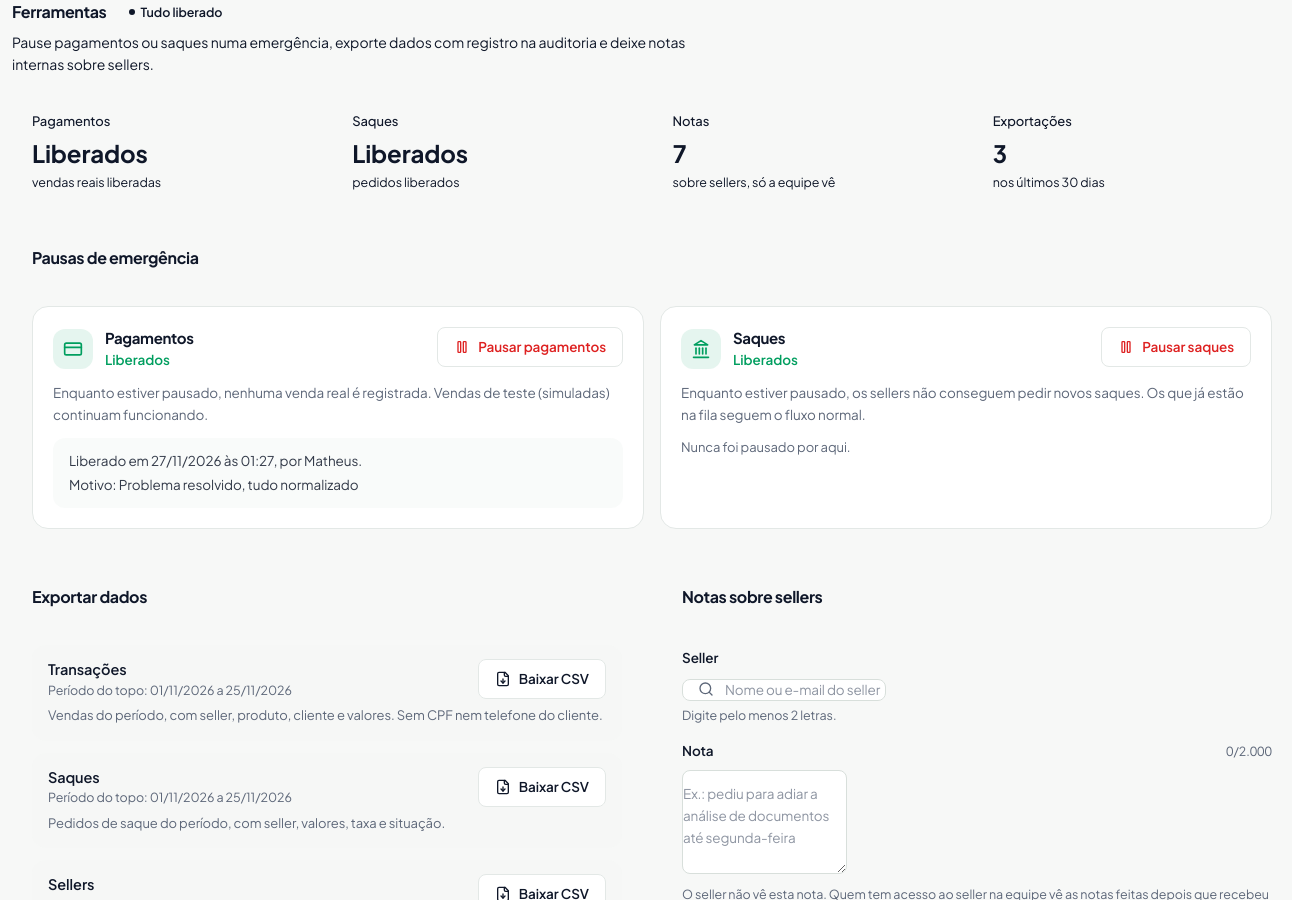
Test case: notas sobre sellers › lista as notas mais recentes e, ao escolher um seller, só as dele
This screenshot has width=1292, height=900.
Expected: the element "Pagamentos" is shown, [32, 306, 644, 529]
Type "mar" into the field with placeholder "Nome ou e-mail do seller" at (784, 690), box [682, 679, 886, 701]
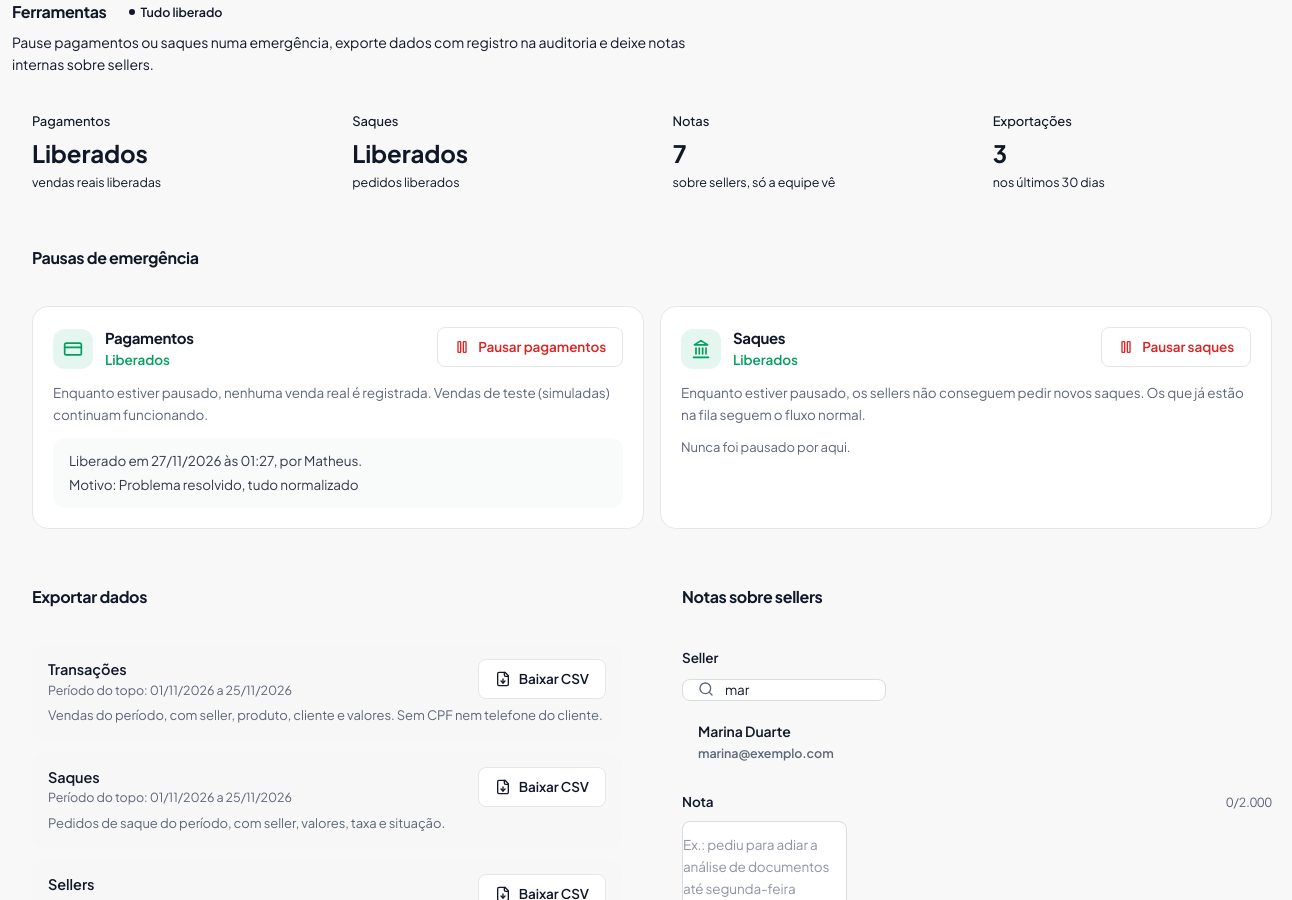
Click the button "Marina Duarte marina@exemplo.com" at (744, 731), box [682, 709, 1268, 775]
(page scrolled)
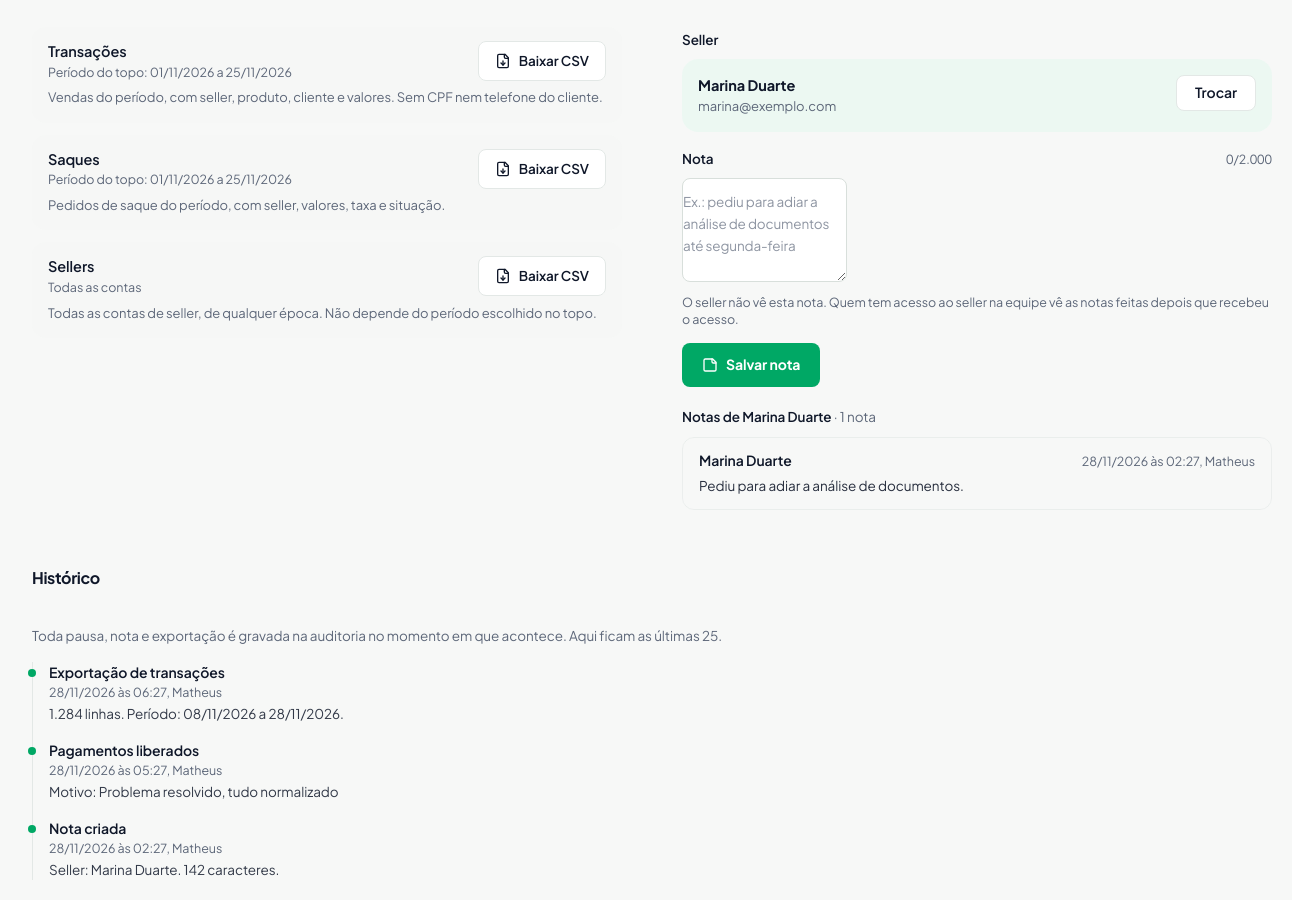
Expected: the text "Pediu para adiar a análise de documentos." is shown, [699, 477, 964, 494]
Now the text "Notas de Marina Duarte" is shown, box [682, 408, 832, 424]
